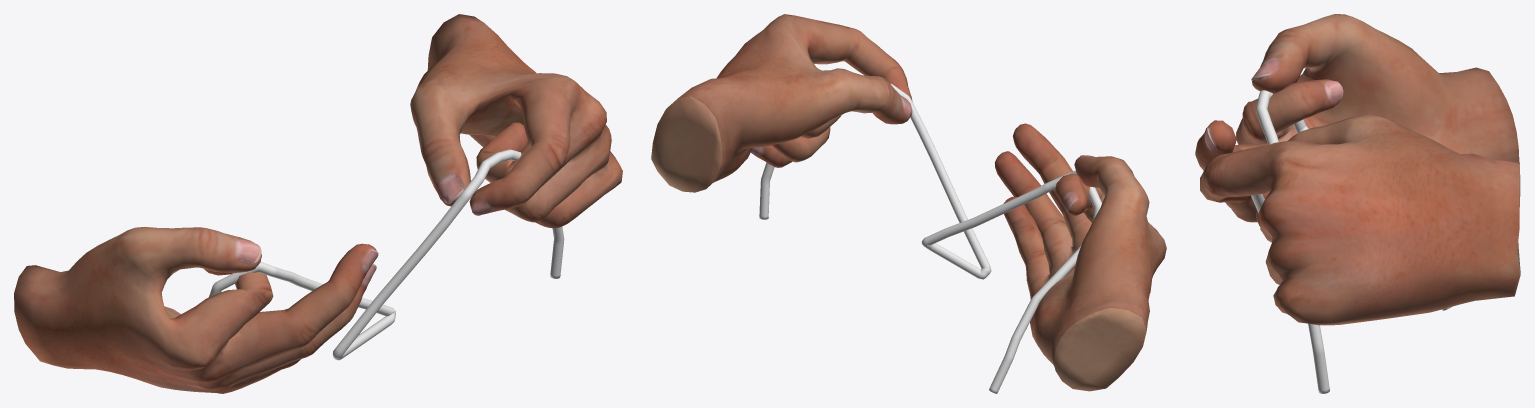
The model's file is mfk_part1_assi_tension2.fbx.
3 views of the same model, side by side, from view 1: azimuth 30°, elevation 25°; view 2: azimuth 150°, elevation 25°; view 3: azimuth 270°, elevation 25° (orthographic). The views are drawn at different scales.
Parts seen in each view (by area): view 1: Hand_R, Hand_L, faden_L, faden_R; view 2: Hand_R, Hand_L, faden_R, faden_L; view 3: Hand_L, Hand_R, faden_L, faden_R.
Part boxes in pixels (bbox=[...]): Hand_R: bbox=[14, 227, 378, 393]; Hand_L: bbox=[410, 14, 622, 228]; faden_L: bbox=[332, 149, 564, 360]; faden_R: bbox=[209, 262, 395, 342]; Hand_R: bbox=[995, 123, 1166, 391]; Hand_L: bbox=[651, 14, 912, 192]; faden_R: bbox=[921, 170, 1102, 393]; faden_L: bbox=[759, 83, 991, 279]; Hand_L: bbox=[1200, 115, 1520, 325]; Hand_R: bbox=[1195, 14, 1519, 226]; faden_L: bbox=[1251, 194, 1329, 393]; faden_R: bbox=[1256, 90, 1451, 310].
Bounding box in the file's own units: 35.97 × 18.58 × 17.02.
